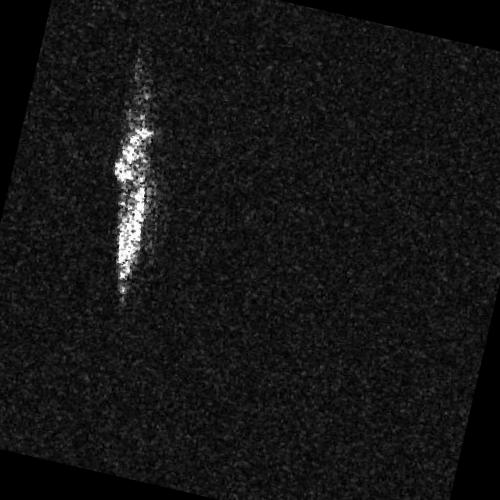ship: (111, 96, 154, 299)
